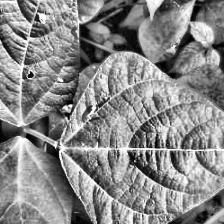Bean Rust: (61, 54, 224, 224), (0, 0, 80, 126), (0, 136, 69, 224)
